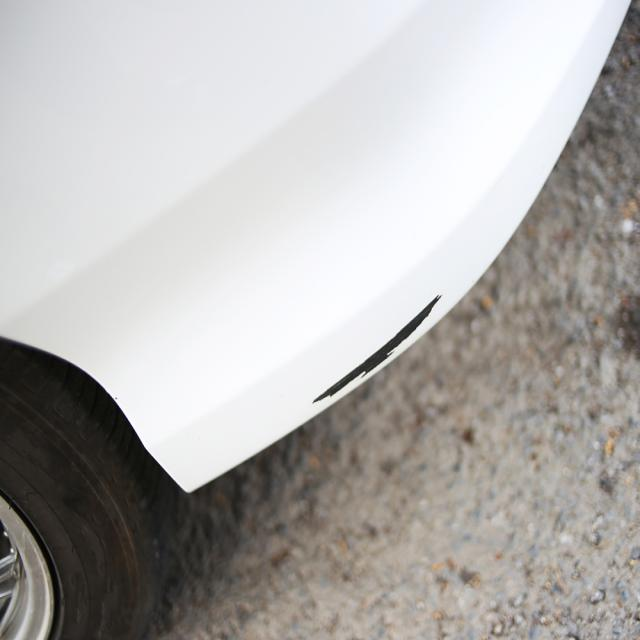scratch: (308, 294, 444, 407)
